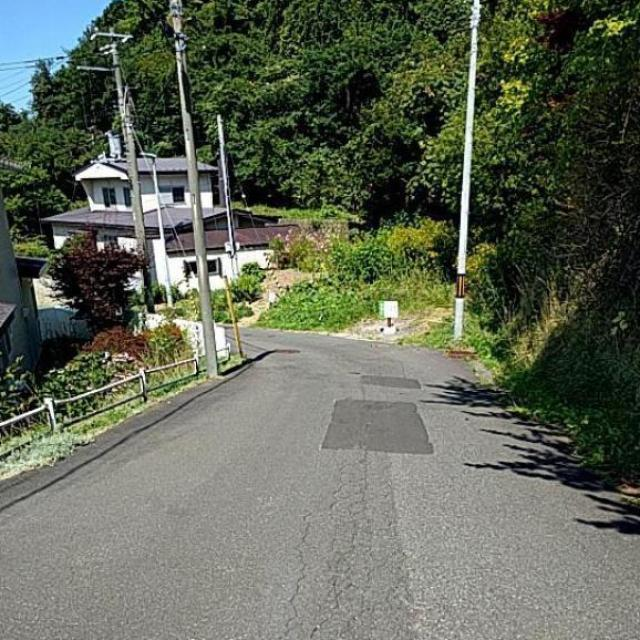Sambungan: (318, 400, 433, 450), (355, 372, 424, 385)
